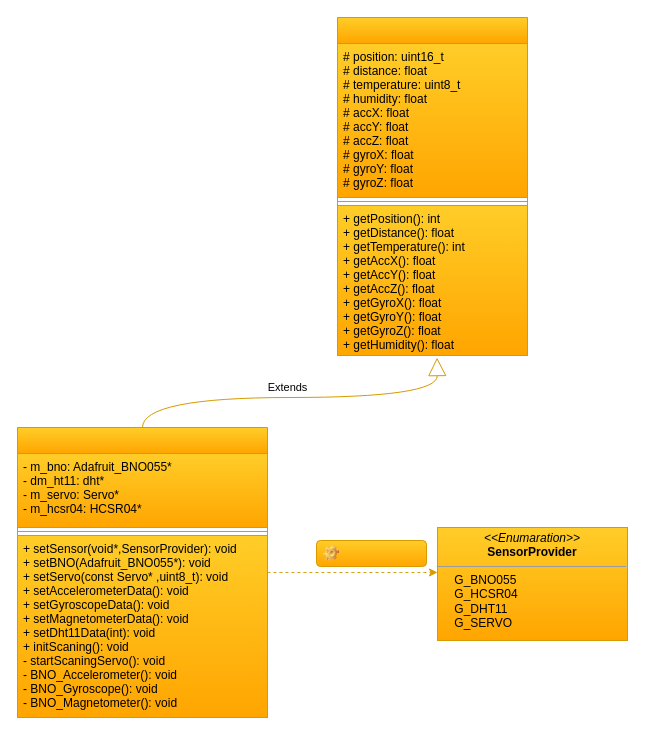
Some shapes in this 645 by 738 pixel diagram are drawn without their labels. Each missing label, with the box of its shape:
item: attribute: (316, 540, 426, 566)
ProjectClass: (16, 426, 268, 718)
SensorDataProvider: (336, 16, 528, 356)
